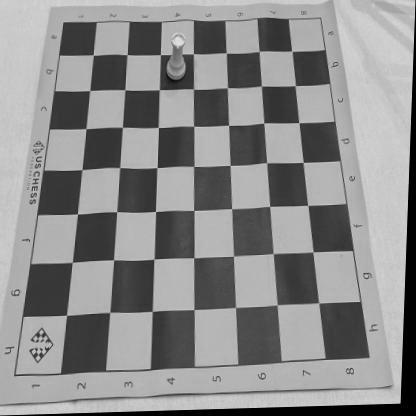white-rook: (166, 32, 188, 82)
